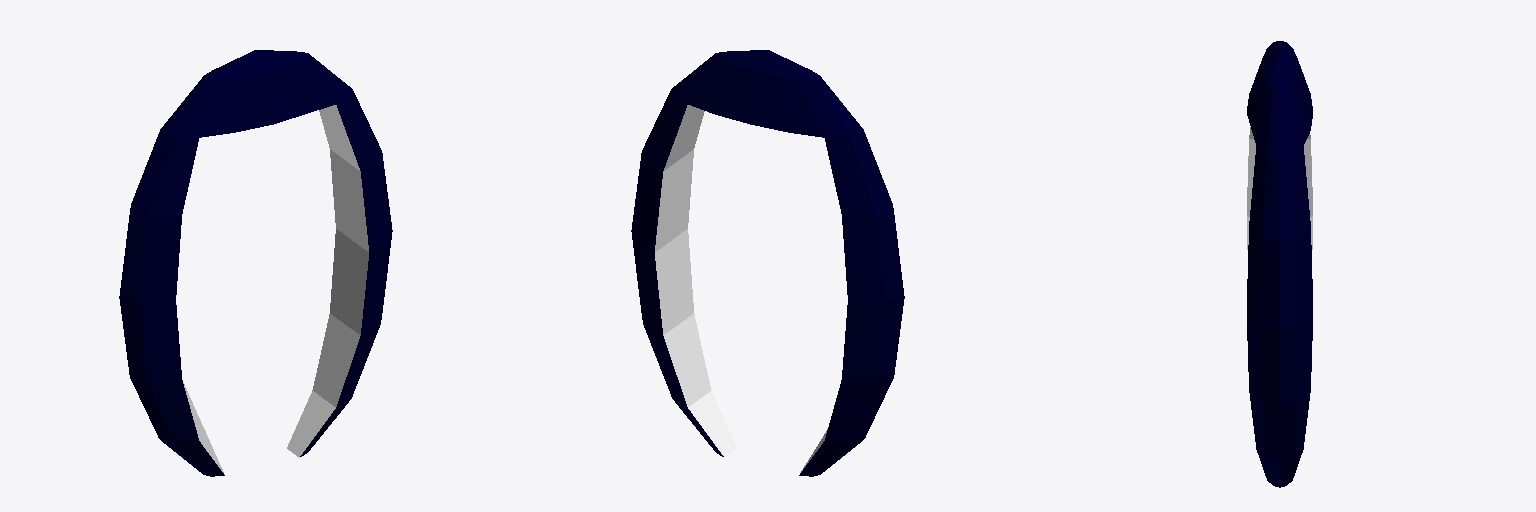
The picture shows the model from 3 angles: view 1: azimuth 30°, elevation 25°; view 2: azimuth 150°, elevation 25°; view 3: azimuth 270°, elevation 25°; orthographic projection.
Parts seen in each view (by area): view 1: Portal; view 2: Portal; view 3: Portal.
Part boxes in pixels (x1,y1,x2,y2): Portal: (119, 50, 392, 476); Portal: (631, 50, 904, 476); Portal: (1247, 41, 1312, 487).
Bounding box in the file's own units: 2.8 × 4.04 × 0.594.
Materials: 1 (1 with a texture image).